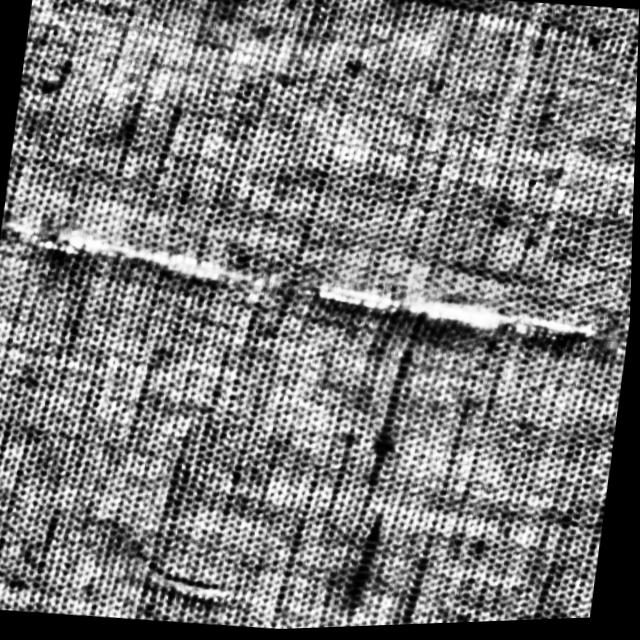Stitch: (0, 206, 607, 377)
